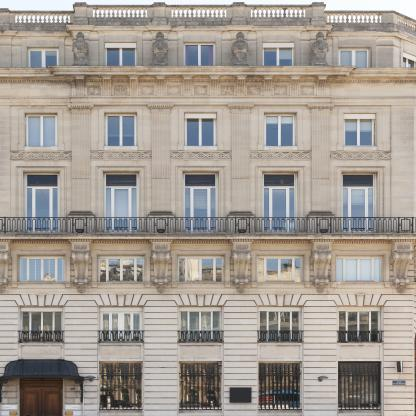Balcony: (1, 2, 416, 39), (1, 216, 415, 239)
Blind: (18, 255, 65, 282), (337, 256, 383, 282), (104, 187, 139, 220), (25, 115, 57, 147), (185, 188, 215, 210), (107, 116, 134, 137), (343, 188, 373, 205), (345, 114, 372, 132), (266, 117, 293, 125), (30, 51, 42, 68), (356, 51, 367, 67), (341, 51, 352, 66), (279, 48, 292, 60), (264, 48, 276, 51)
Building Outline: (0, 2, 416, 416)
Deco: (390, 242, 414, 293), (310, 242, 333, 293), (69, 241, 91, 293), (150, 242, 172, 293), (230, 242, 252, 293), (310, 31, 329, 66), (150, 31, 169, 66), (71, 31, 89, 66), (231, 31, 249, 66), (0, 242, 11, 293), (87, 85, 101, 95), (140, 85, 154, 95), (167, 85, 181, 95), (247, 85, 261, 95), (114, 85, 127, 95), (194, 85, 207, 95), (221, 85, 234, 95), (274, 85, 287, 95), (300, 86, 314, 95)
Door: (24, 187, 60, 233), (262, 187, 297, 233), (183, 187, 218, 233), (104, 187, 139, 233), (19, 381, 63, 416), (342, 188, 376, 233)
Facade: (1, 31, 415, 416)
Floor: (0, 158, 416, 239), (0, 80, 416, 159), (0, 294, 416, 354), (0, 239, 416, 294)
Floor Slab: (0, 26, 416, 31), (0, 154, 416, 159), (0, 234, 416, 239), (0, 289, 416, 294), (0, 349, 416, 354), (0, 74, 416, 79)
Ground Floor: (0, 354, 416, 416)
Molding: (10, 151, 391, 161), (0, 78, 416, 84)
Pillar: (146, 103, 175, 233), (307, 103, 335, 233), (67, 103, 95, 233), (227, 103, 255, 233)
Roof: (0, 359, 85, 380)
Top Floor: (0, 31, 416, 79)
Window: (99, 361, 143, 410), (338, 361, 382, 410), (258, 361, 302, 410), (179, 361, 222, 410), (99, 306, 143, 343), (338, 306, 382, 343), (259, 306, 302, 343), (20, 307, 64, 343), (179, 307, 222, 343), (18, 255, 65, 282), (97, 256, 145, 282), (177, 256, 224, 282), (337, 256, 383, 282), (257, 256, 303, 282), (104, 114, 137, 146), (185, 113, 217, 146), (25, 115, 57, 147), (344, 114, 376, 146), (265, 114, 296, 146), (263, 43, 295, 72), (105, 43, 137, 72), (184, 43, 216, 72), (27, 48, 59, 73), (339, 49, 370, 73), (342, 173, 376, 188), (24, 173, 60, 187), (262, 173, 297, 187), (183, 173, 218, 187), (104, 173, 139, 187)
